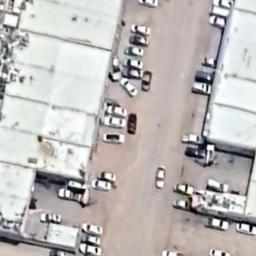sedan: (190, 77, 216, 100), (97, 132, 132, 147), (102, 110, 128, 130), (141, 68, 160, 94), (199, 54, 223, 74), (204, 176, 232, 192), (76, 243, 108, 256), (208, 214, 230, 232), (36, 212, 66, 225), (102, 104, 134, 116), (173, 181, 197, 197), (154, 166, 168, 192), (168, 200, 194, 214), (178, 134, 207, 146), (121, 76, 138, 96), (123, 44, 147, 58), (206, 16, 230, 30), (234, 220, 256, 235), (80, 222, 106, 234), (123, 58, 148, 70), (204, 246, 234, 256), (93, 180, 116, 193), (96, 171, 122, 182), (124, 66, 147, 78), (139, 0, 163, 11), (160, 248, 190, 256), (79, 234, 107, 242), (132, 24, 154, 34), (211, 0, 238, 8), (127, 37, 153, 45)
